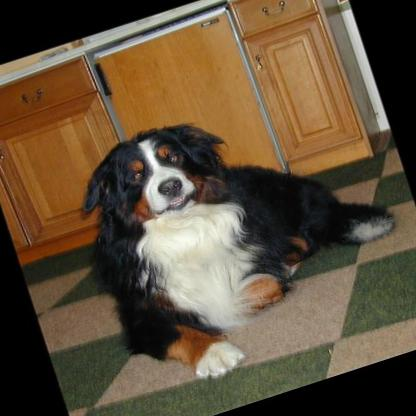Bernese_mountain_dog: (49, 63, 416, 407)
